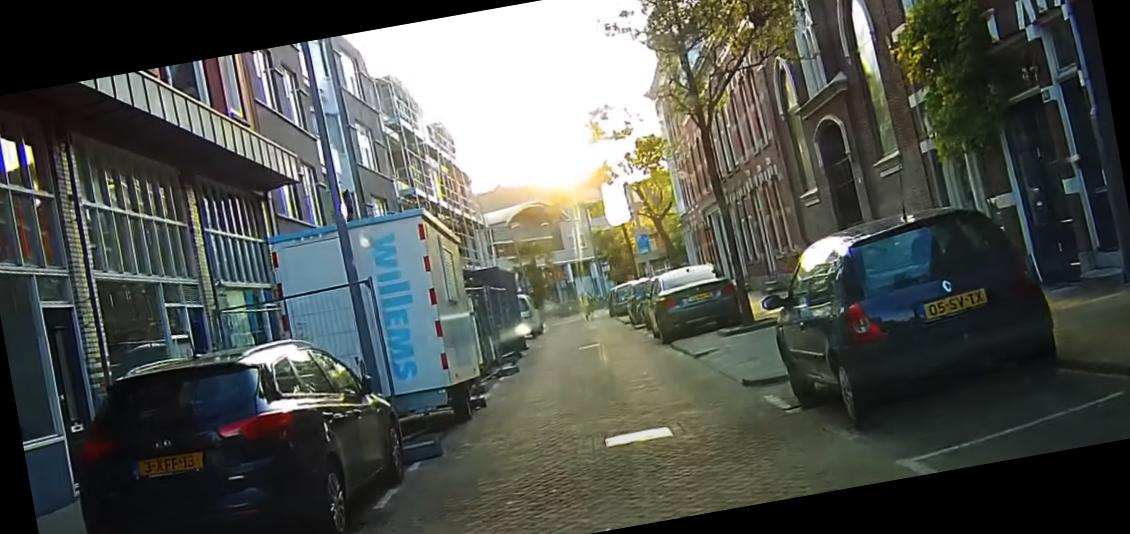license-plate: (912, 286, 993, 327), (132, 448, 207, 482)
